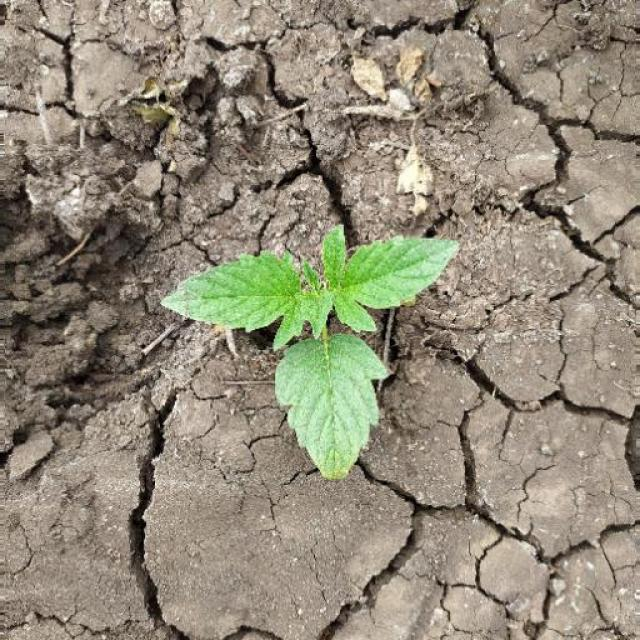crop: (151, 236, 474, 482)
